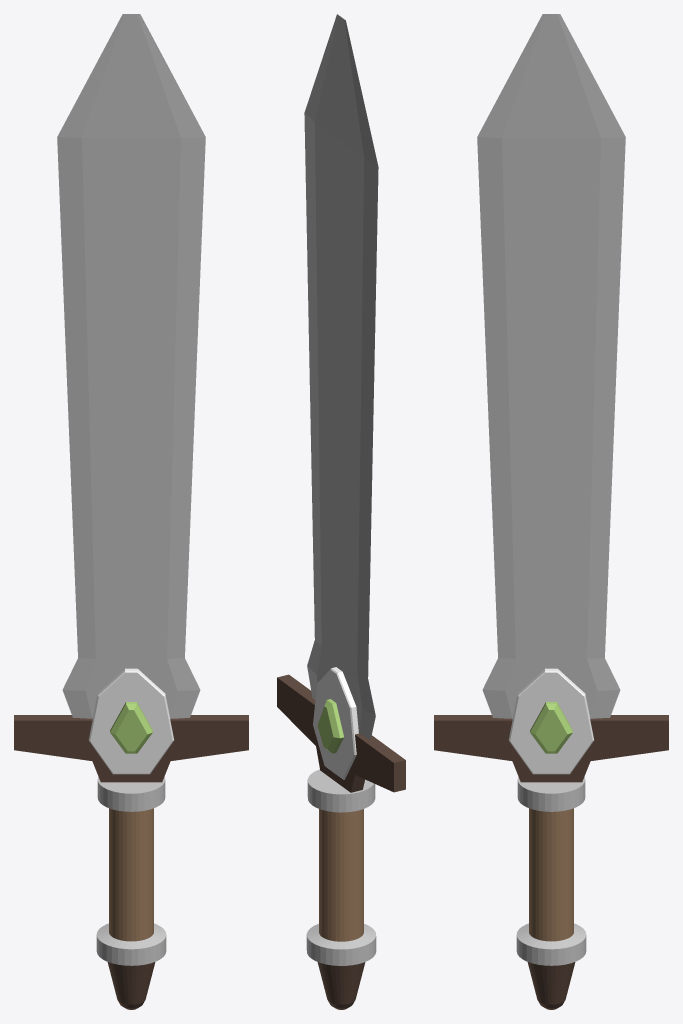
The model's file is TesWarnaWeapon.fbx.
3 views of the same model, side by side, from view 1: azimuth 90°, elevation 25°; view 2: azimuth 210°, elevation 25°; view 3: azimuth 270°, elevation 25° (orthographic).
Visible parts, largest first — view 1: Sword1; view 2: Sword1; view 3: Sword1.
Boxes of the visible parts, box(x1,y1,x2,y2) form: Sword1: box(14, 14, 248, 1009); Sword1: box(277, 14, 405, 1009); Sword1: box(434, 14, 668, 1009).
Bounding box in the file's own units: 30.16 × 474 × 101.
